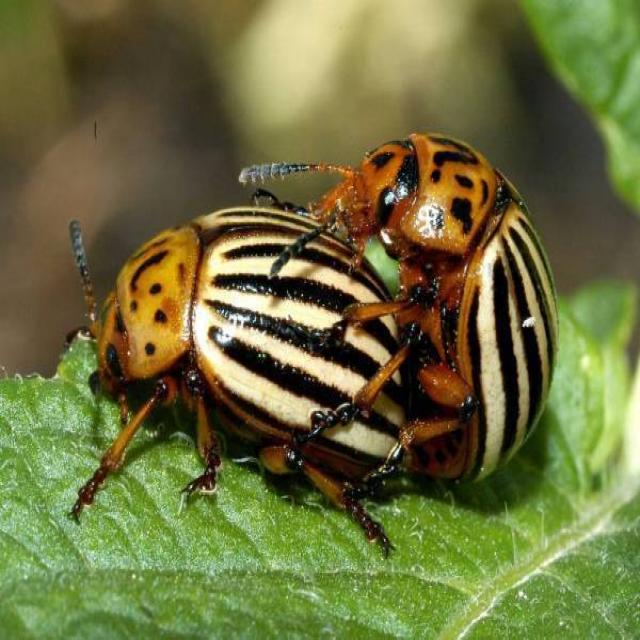ShuCaiHuaBanChong-Grown-: (79, 209, 415, 513), (358, 104, 581, 498)
